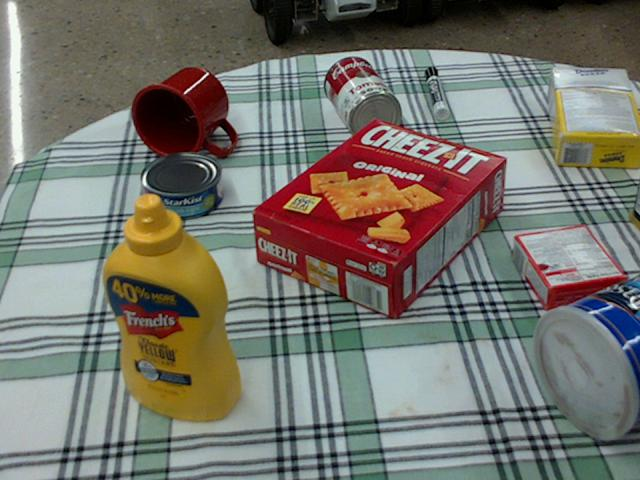cracker_box: (251, 120, 508, 318)
gelatin_box: (511, 224, 624, 307)
large_marker: (424, 66, 447, 118)
master_chef_can: (535, 272, 639, 439)
mug: (131, 67, 235, 159)
mustard_bottle: (101, 193, 242, 419)
potted_meat_can: (627, 170, 639, 231)
sugar_box: (547, 65, 639, 170)
tomato_soup_can: (323, 55, 401, 140)
tuna_fish_can: (139, 151, 222, 218)
